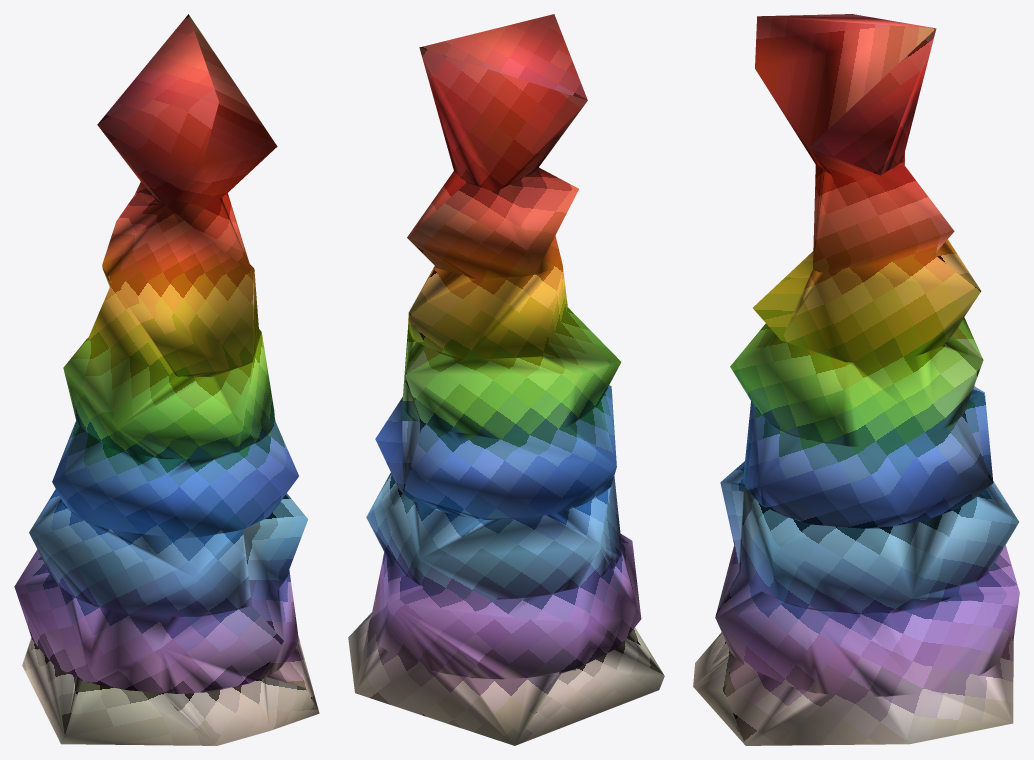
The model's file is STACKING_RING-low.glb.
3 views of the same model, side by side, from view 1: azimuth 30°, elevation 25°; view 2: azimuth 150°, elevation 25°; view 3: azimuth 270°, elevation 25° (orthographic). The views are drawn at different scales.
Parts seen in each view (by area): view 1: STACKING_RING; view 2: STACKING_RING; view 3: STACKING_RING.
Boxes of the visible parts, x1,y1,x2,y2 form: STACKING_RING: (14, 14, 319, 745); STACKING_RING: (348, 14, 664, 745); STACKING_RING: (693, 14, 1019, 745).
Bounding box in the file's own units: 0.0752 × 0.172 × 0.0733.
1 material, 1 textured.
